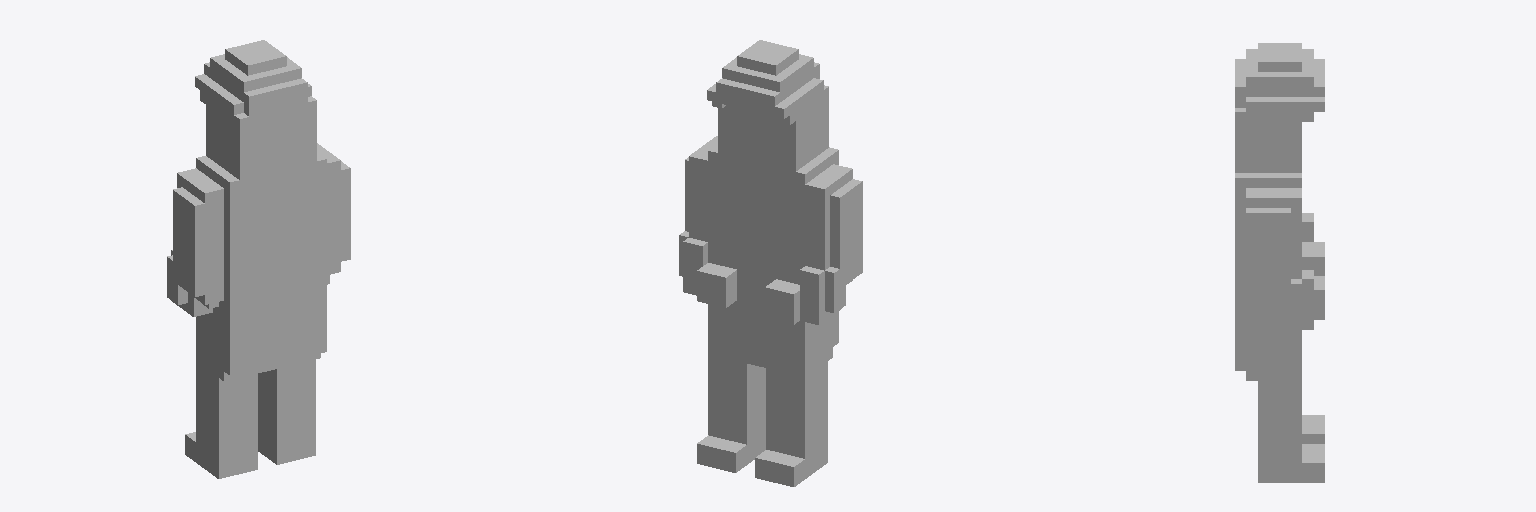
File: player-6.obj
3 views of the same model, side by side, from view 1: azimuth 30°, elevation 25°; view 2: azimuth 150°, elevation 25°; view 3: azimuth 270°, elevation 25° (orthographic).
Visible parts, largest first — view 1: object 1; view 2: object 1; view 3: object 1.
Boxes of the visible parts, x1,y1,x2,y2 form: object 1: [167, 40, 350, 478]; object 1: [679, 40, 862, 486]; object 1: [1235, 43, 1324, 482].
Bounding box in the file's own units: 1.6 × 4 × 0.8.